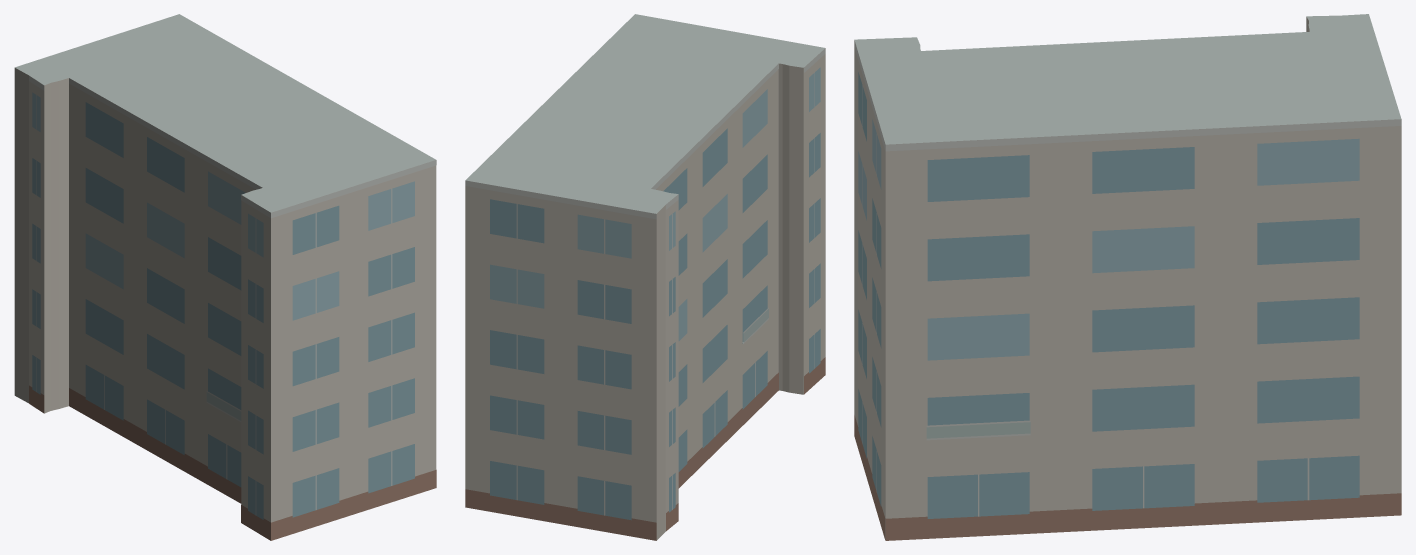
Rendered from survey-upis-32883241.glb.
3 views of the same model, side by side, from view 1: azimuth 30°, elevation 25°; view 2: azimuth 150°, elevation 25°; view 3: azimuth 270°, elevation 25° (orthographic). The views are drawn at different scales.
Visible parts, largest first — view 1: survey-upis-32883241.tmp; view 2: survey-upis-32883241.tmp; view 3: survey-upis-32883241.tmp.
Boxes of the visible parts, x1=… form: survey-upis-32883241.tmp: x1=14, y1=14, x2=436, y2=540; survey-upis-32883241.tmp: x1=465, y1=14, x2=825, y2=540; survey-upis-32883241.tmp: x1=854, y1=14, x2=1401, y2=540.
Bounding box in the file's own units: 10.16 × 14.35 × 17.97.
